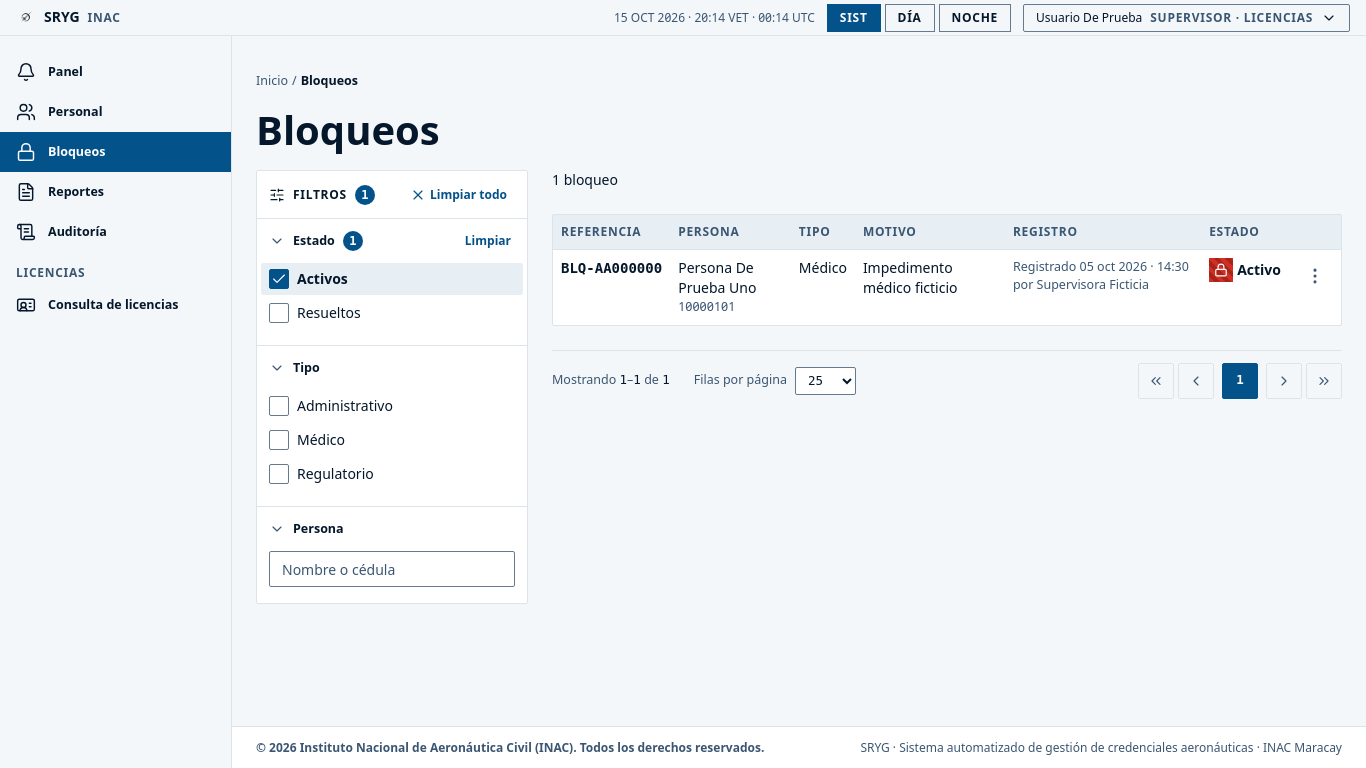
Scenario: /bloqueos › resolves a block with a mandatory note (BR-08) and refreshes the list
The image size is (1366, 768).
Click the button named "Acciones del bloqueo" at (1315, 276), box [1297, 258, 1333, 294]
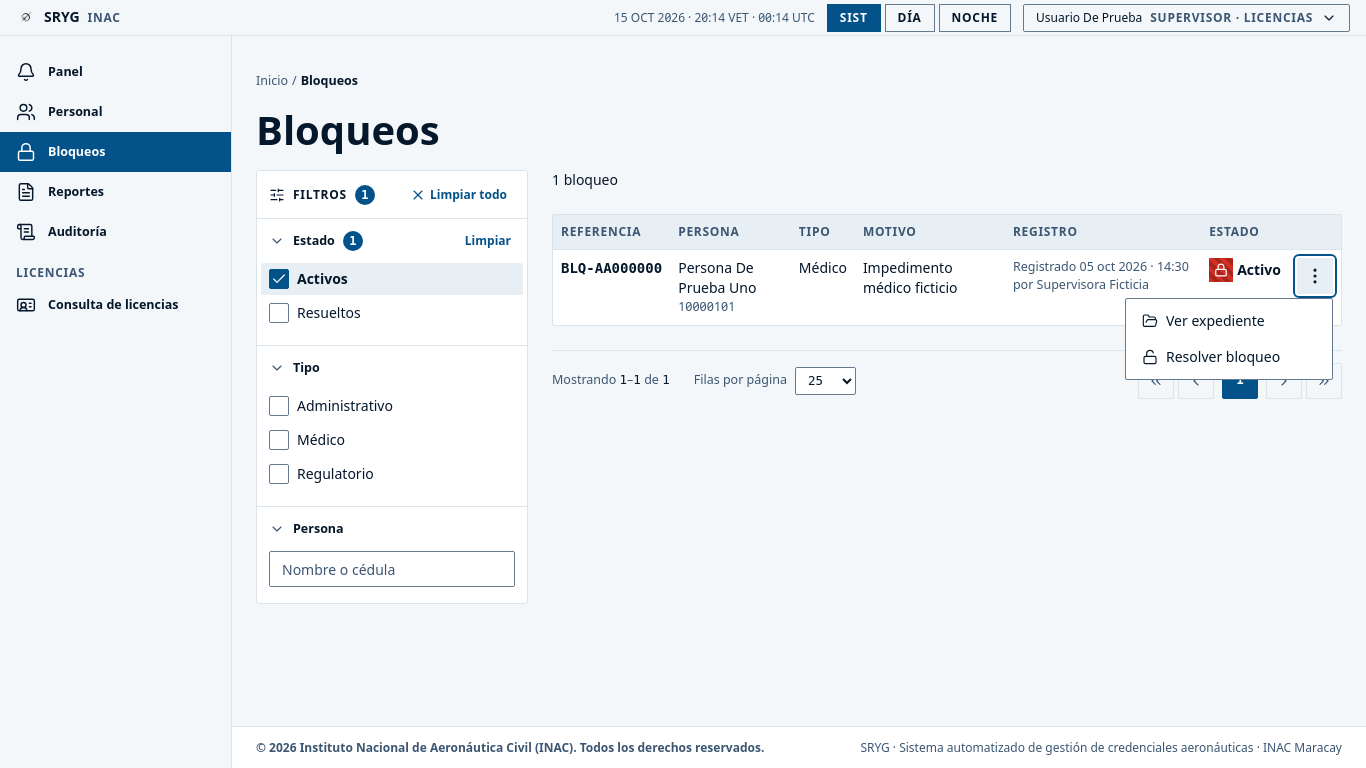
Click the menu item "Resolver bloqueo" at (1229, 357), box [1126, 339, 1332, 375]
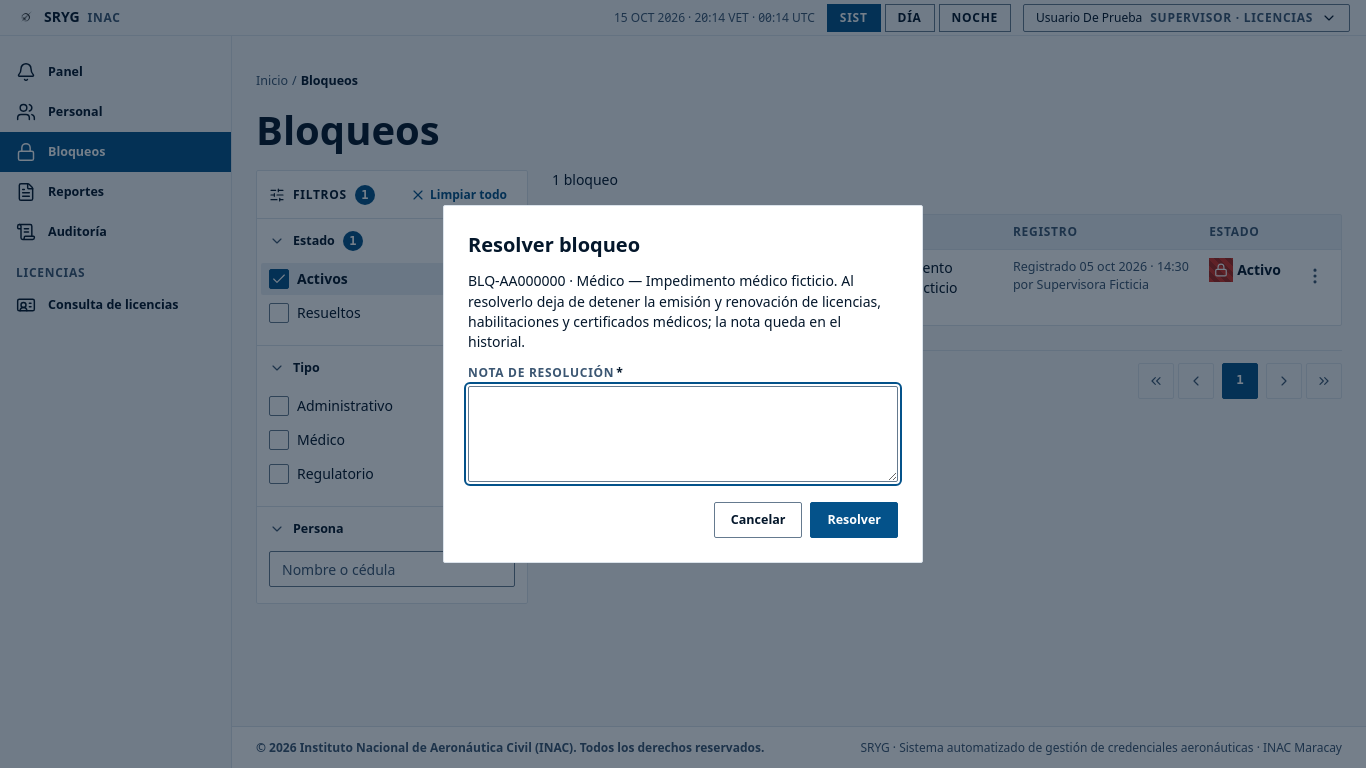
Click the button "Resolver" at (854, 520), box [810, 502, 898, 538]
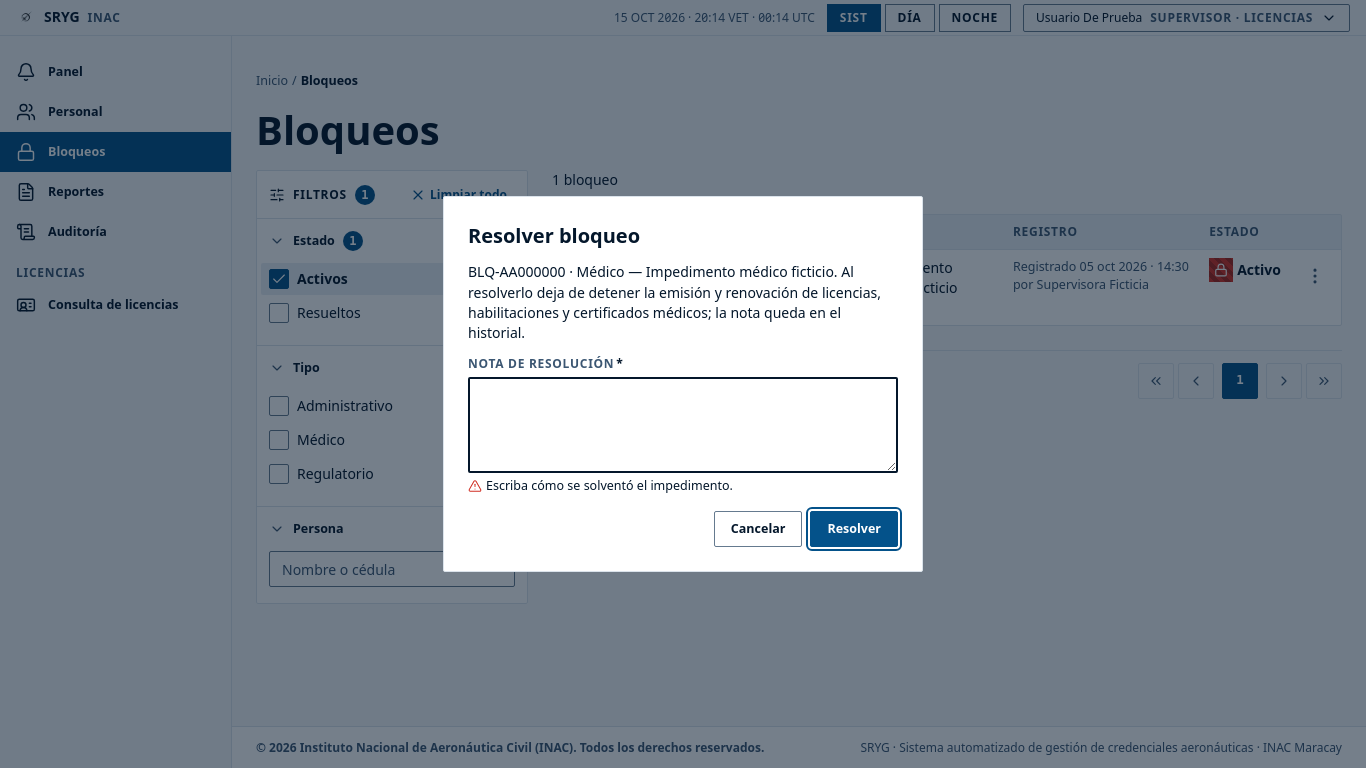
Expected: the text "Escriba cómo se solventó el impedimento." is shown, [468, 477, 733, 494]
Type "Impedimento solventado" into the text box labelled "Nota de resolución *" at (683, 425), box [468, 377, 898, 473]
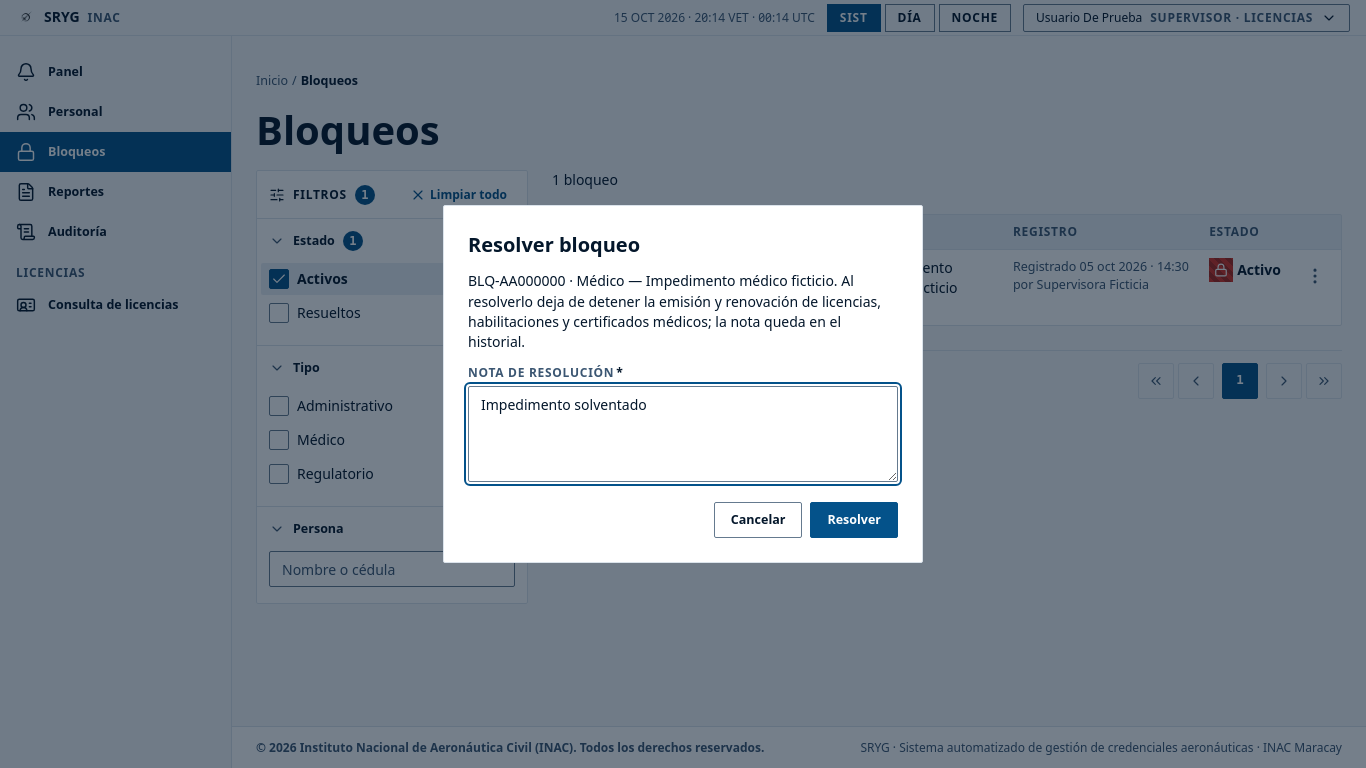
Click the button "Resolver" at (854, 520), box [810, 502, 898, 538]
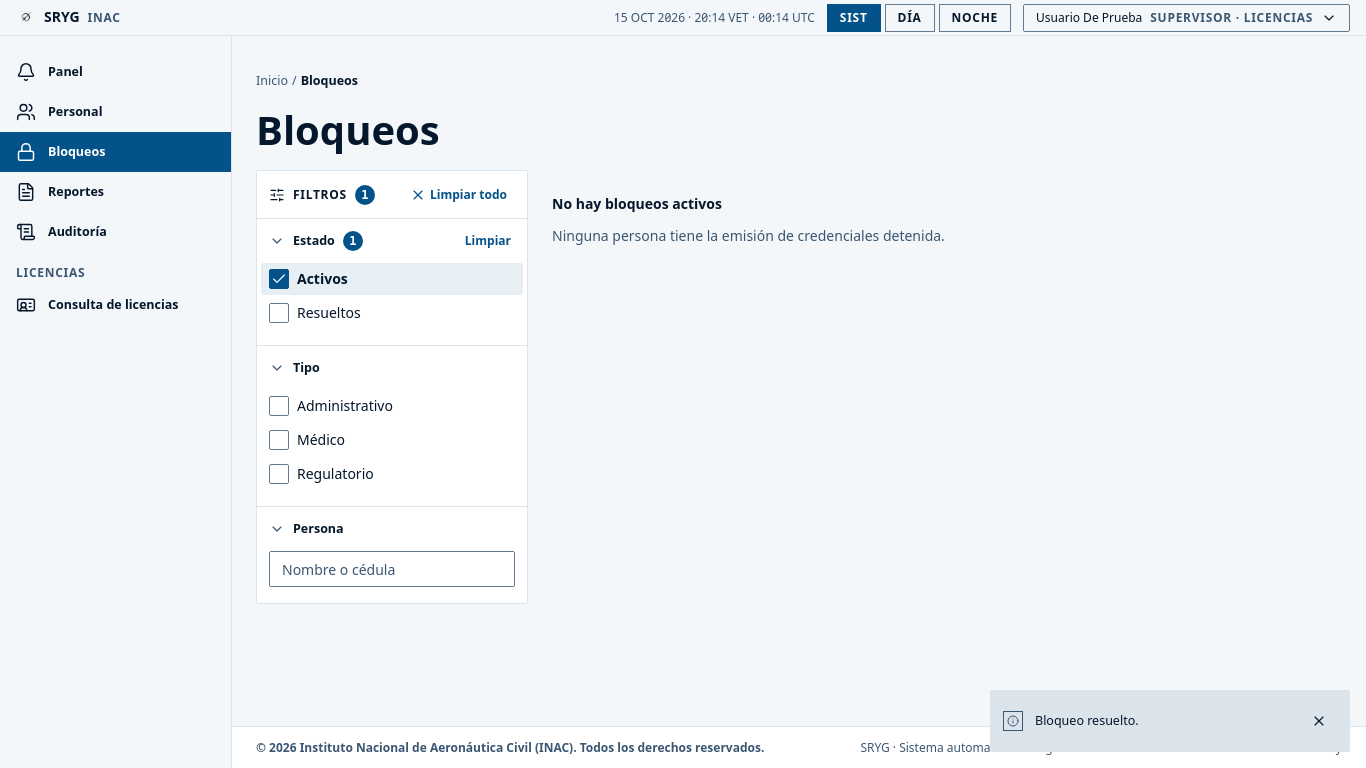
Expected: the text "No hay bloqueos activos" is shown, [552, 194, 722, 214]
Expected: the text "Bloqueo resuelto." is shown, [1035, 712, 1139, 729]
